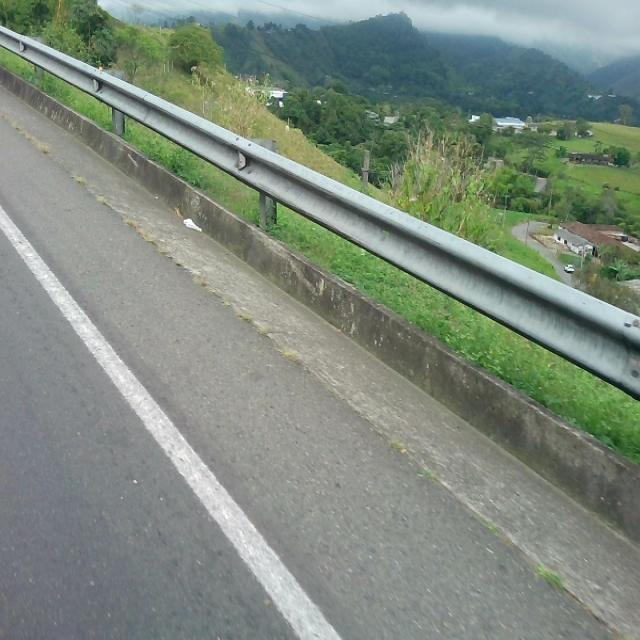DITCH: (1, 67, 638, 637)
